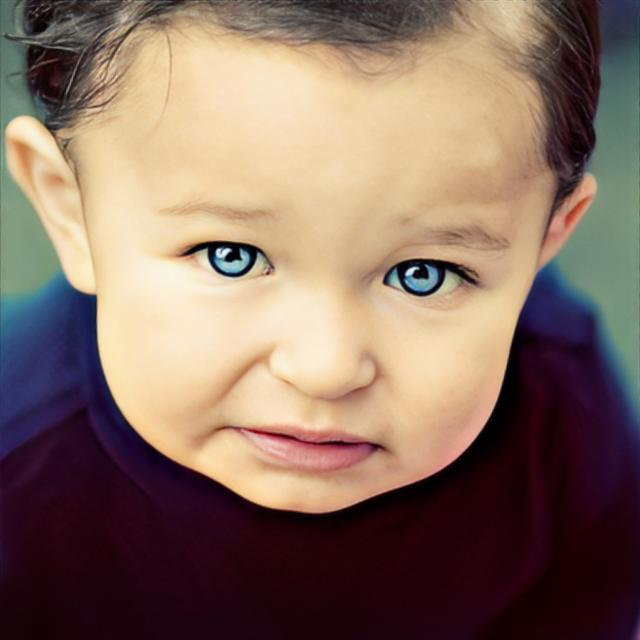sad: (95, 0, 552, 516)
